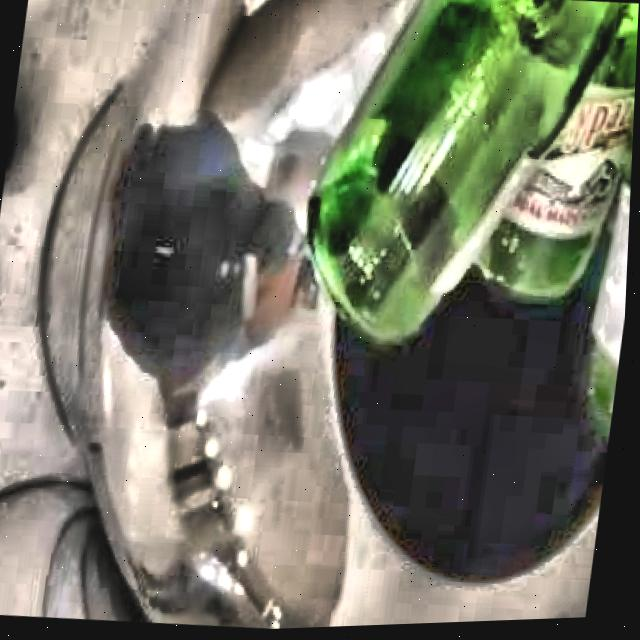glass: (310, 0, 639, 438)
